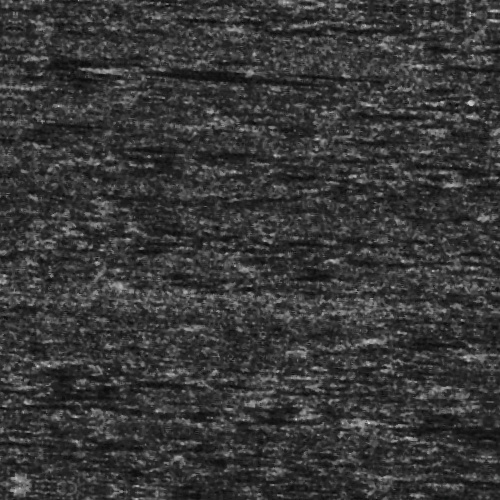object: (389, 43, 452, 58), (86, 73, 159, 80), (297, 365, 338, 376), (454, 335, 500, 344), (232, 66, 295, 71), (449, 82, 490, 87), (438, 466, 479, 471), (465, 0, 496, 6), (373, 327, 404, 332)
shadow: (123, 73, 332, 80), (421, 43, 500, 58), (318, 365, 399, 376), (263, 66, 376, 71), (389, 327, 471, 332), (458, 466, 500, 471), (470, 82, 500, 87), (486, 335, 500, 344), (481, 0, 500, 6)
